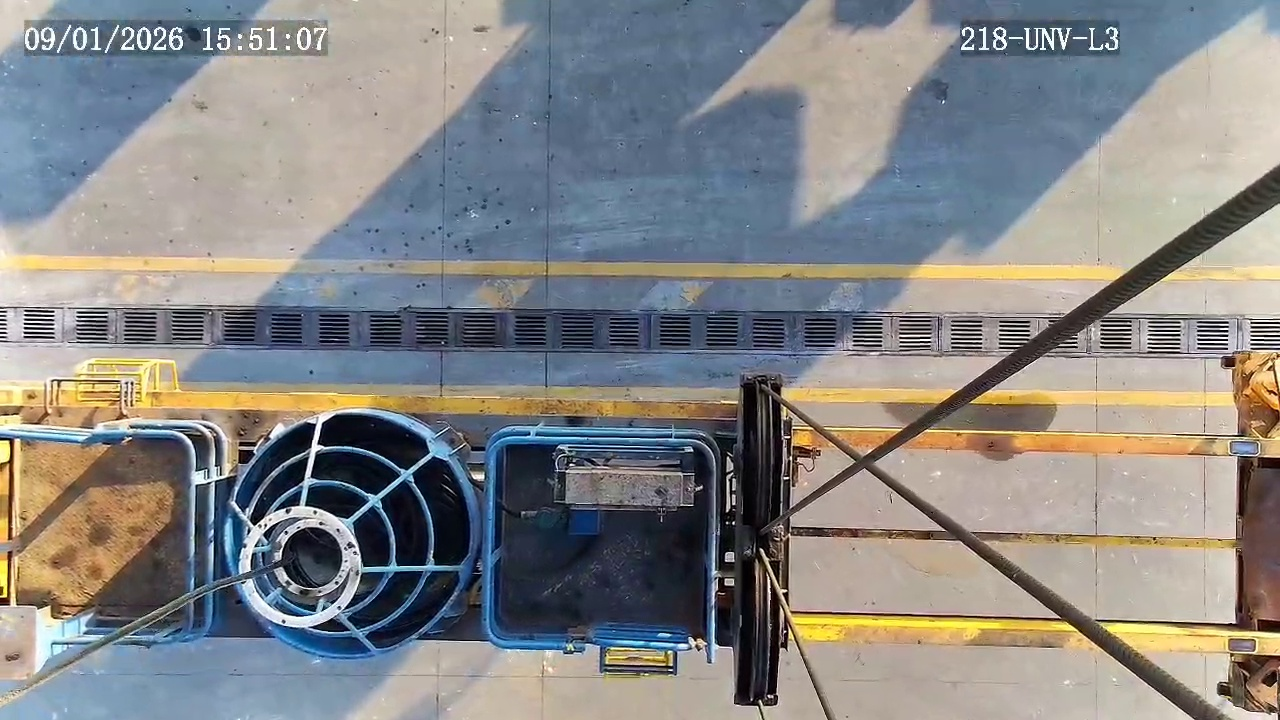right: (238, 505, 361, 627)
